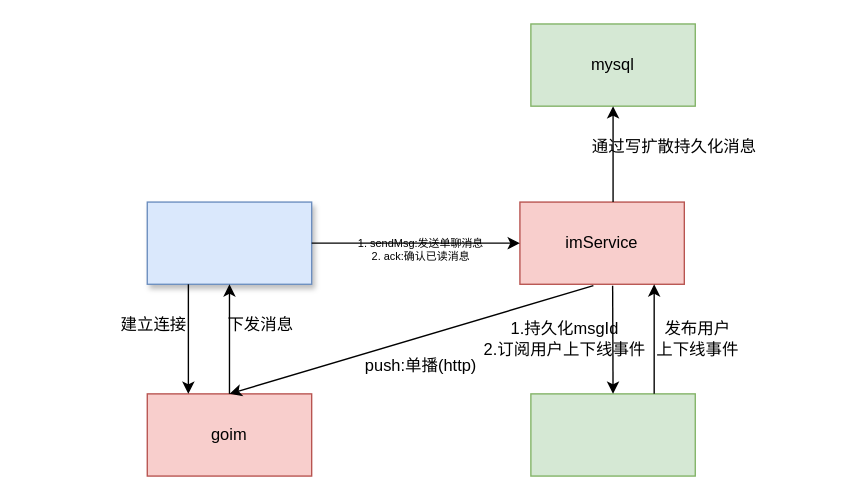
Some shapes in this 851 by 500 pixel diagram are drawn without their labels. Each missing label, with the centre of its shape:
"APP" goes at pixel 230 244.
"redis" goes at pixel 612 434.
